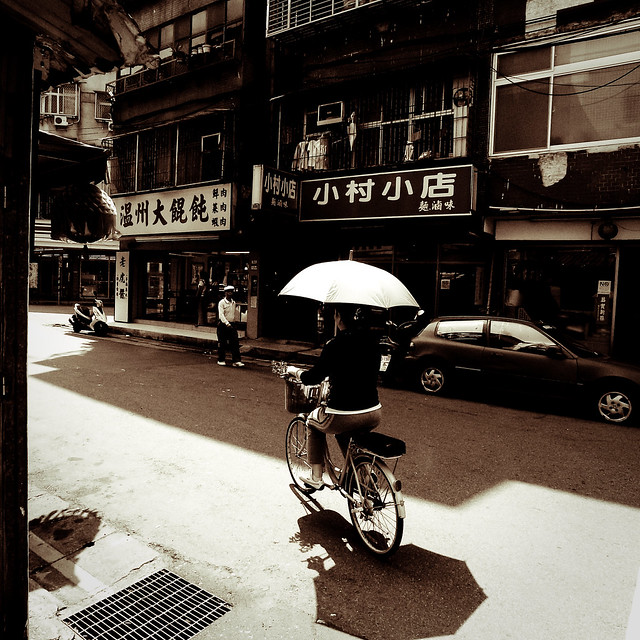backpack: (289, 343, 380, 446), (311, 334, 383, 398), (279, 366, 321, 465), (383, 305, 421, 382), (280, 367, 315, 418), (216, 288, 239, 361), (67, 297, 110, 336), (287, 372, 325, 411), (221, 291, 243, 338), (376, 329, 397, 374), (218, 294, 236, 332), (222, 299, 246, 323), (213, 296, 232, 322)
bench: (399, 326, 634, 437), (289, 390, 396, 468), (218, 333, 327, 373), (132, 327, 217, 356), (240, 343, 317, 369), (197, 323, 249, 357), (252, 353, 314, 379), (234, 348, 294, 374), (244, 341, 304, 360), (267, 339, 320, 360), (283, 343, 323, 365), (243, 347, 289, 364), (268, 359, 308, 378), (214, 299, 247, 321), (243, 358, 284, 374)
bicycle: (89, 393, 431, 578), (200, 351, 431, 548), (301, 351, 527, 519), (337, 318, 579, 449), (275, 377, 407, 559), (284, 315, 394, 512), (282, 370, 382, 479), (268, 334, 344, 476), (288, 407, 391, 505), (332, 437, 404, 553), (279, 391, 344, 504), (278, 368, 322, 484), (309, 403, 366, 492), (286, 349, 334, 453), (303, 396, 383, 457), (325, 424, 400, 483), (353, 431, 405, 507), (317, 415, 379, 468), (289, 393, 325, 468), (279, 386, 307, 471), (280, 370, 314, 439), (276, 365, 322, 415), (299, 407, 332, 475), (284, 412, 313, 487), (69, 296, 111, 336)
book: (80, 88, 94, 126)
bottle: (60, 83, 77, 122), (80, 88, 94, 126)
bowl: (37, 110, 74, 132), (42, 103, 68, 129), (48, 113, 75, 129)
bus: (276, 259, 418, 318)
car: (284, 279, 615, 430), (385, 314, 638, 424), (258, 333, 425, 479), (284, 312, 423, 429), (381, 316, 554, 391), (276, 259, 418, 318), (378, 311, 464, 393), (334, 317, 434, 386), (282, 350, 389, 411), (379, 308, 424, 388), (373, 304, 417, 357), (362, 315, 394, 386), (69, 296, 111, 336), (544, 317, 587, 356), (360, 305, 419, 330), (375, 326, 399, 384), (386, 306, 423, 341), (61, 301, 100, 331), (383, 305, 420, 326), (214, 299, 247, 321), (377, 329, 396, 364), (377, 340, 394, 375), (374, 348, 391, 383), (514, 340, 549, 354)
cat: (497, 138, 640, 208)
chair: (292, 309, 423, 523), (399, 326, 634, 437), (288, 379, 390, 471), (294, 133, 322, 169), (310, 130, 332, 169), (327, 126, 345, 169)
cup: (53, 83, 79, 124), (40, 92, 64, 121), (42, 103, 68, 129), (80, 89, 94, 127), (48, 113, 75, 129)
dining table: (399, 326, 634, 437)
frisbee: (222, 299, 246, 323)
handbag: (303, 313, 382, 447), (309, 360, 381, 421), (317, 335, 363, 417), (305, 393, 382, 440), (302, 317, 343, 396), (329, 332, 376, 397), (347, 325, 383, 393), (378, 312, 413, 380), (277, 370, 308, 438), (347, 429, 406, 458), (216, 288, 239, 361), (281, 367, 312, 413), (372, 321, 395, 382), (221, 292, 244, 344), (377, 326, 405, 364), (302, 375, 330, 407), (211, 302, 235, 339), (215, 286, 239, 322), (370, 320, 395, 354), (224, 308, 242, 355), (212, 309, 229, 355), (376, 334, 396, 372), (217, 310, 248, 334), (215, 317, 239, 348), (227, 303, 249, 336), (218, 294, 236, 332), (212, 325, 245, 344), (374, 348, 391, 383), (213, 297, 230, 331), (222, 299, 246, 323), (231, 289, 247, 322), (376, 330, 397, 355), (224, 319, 251, 338), (204, 302, 223, 327), (212, 307, 235, 325)
horse: (67, 296, 110, 335)
motorcycle: (280, 361, 412, 551), (275, 357, 327, 479), (68, 296, 111, 336), (280, 367, 315, 414), (75, 282, 107, 328)
person: (286, 327, 509, 544), (226, 286, 418, 506), (337, 318, 579, 449), (278, 268, 444, 445), (272, 338, 406, 534), (290, 304, 390, 486), (277, 258, 417, 345), (284, 301, 405, 396), (282, 367, 382, 453), (283, 336, 342, 477), (296, 302, 359, 432), (328, 307, 390, 423), (376, 306, 451, 391), (281, 290, 357, 373), (277, 321, 334, 424), (45, 181, 117, 243), (524, 266, 579, 343), (505, 263, 562, 334), (295, 302, 341, 387), (359, 311, 400, 390), (381, 307, 423, 384), (284, 307, 323, 373), (349, 307, 387, 374), (520, 293, 566, 346), (214, 286, 243, 368), (306, 302, 344, 357), (318, 305, 375, 341), (298, 333, 332, 393), (384, 299, 423, 351), (515, 278, 555, 328), (319, 307, 349, 373), (500, 320, 561, 352), (299, 128, 346, 169), (377, 324, 413, 376), (579, 297, 610, 357), (542, 282, 572, 342), (280, 367, 315, 418), (350, 105, 377, 170), (404, 96, 431, 161), (209, 282, 234, 352), (531, 278, 562, 334), (68, 294, 109, 336), (354, 305, 392, 345), (511, 294, 544, 340), (506, 283, 542, 325), (386, 313, 414, 364), (195, 264, 219, 323), (502, 259, 525, 320), (485, 323, 536, 350), (549, 303, 584, 342), (572, 315, 604, 357), (330, 112, 353, 169), (372, 320, 395, 377), (319, 119, 345, 169), (207, 267, 233, 316), (78, 270, 106, 314), (178, 275, 202, 326), (221, 292, 244, 344), (343, 109, 362, 169), (187, 263, 206, 321), (497, 330, 547, 352), (216, 286, 236, 338), (84, 286, 109, 327), (318, 305, 342, 347), (545, 314, 573, 350), (308, 302, 330, 347), (324, 306, 352, 341), (211, 283, 231, 329), (75, 281, 98, 321), (582, 292, 602, 337), (380, 335, 403, 374), (297, 132, 321, 169), (78, 294, 103, 329), (219, 288, 245, 321), (227, 296, 249, 335), (204, 288, 223, 333), (544, 283, 562, 329), (541, 305, 566, 338), (525, 301, 553, 330), (386, 306, 422, 328), (360, 122, 377, 168), (351, 306, 388, 327), (408, 134, 436, 161), (516, 294, 539, 326), (517, 304, 545, 330), (193, 279, 208, 327), (201, 282, 217, 326), (312, 316, 334, 348), (307, 132, 326, 169), (550, 310, 574, 339), (403, 127, 424, 160), (502, 273, 519, 313), (292, 136, 312, 169), (503, 287, 524, 318), (193, 266, 208, 308), (174, 287, 192, 322), (375, 337, 392, 374), (213, 285, 242, 306), (314, 131, 330, 169), (549, 281, 565, 319), (578, 300, 594, 338), (346, 109, 359, 152), (82, 278, 101, 307), (400, 131, 417, 163), (505, 333, 535, 351), (203, 280, 223, 307), (231, 289, 247, 322), (199, 262, 215, 295), (82, 267, 100, 296), (188, 261, 203, 295), (220, 280, 243, 302), (192, 260, 208, 291), (213, 296, 232, 322), (211, 281, 232, 304), (490, 332, 520, 348), (207, 255, 222, 287), (218, 280, 235, 308), (218, 263, 235, 291), (223, 260, 240, 288), (160, 287, 175, 318), (90, 278, 106, 307), (224, 271, 240, 300), (485, 327, 508, 347), (512, 340, 547, 353), (213, 260, 228, 290), (232, 280, 248, 308), (219, 271, 234, 299), (150, 198, 165, 225), (79, 273, 95, 298)
remote: (45, 114, 77, 128)
skateboard: (229, 357, 284, 375), (230, 323, 248, 366), (219, 359, 268, 372), (214, 356, 254, 369)
suitcase: (67, 297, 110, 336), (280, 367, 315, 414)
tennis racket: (399, 326, 634, 437), (281, 379, 414, 561), (284, 410, 313, 487), (222, 299, 246, 323)
truck: (377, 314, 630, 422), (276, 259, 418, 318), (67, 296, 110, 335)
tv: (276, 259, 418, 318)
umbrella: (268, 234, 441, 326), (284, 301, 405, 396), (282, 264, 409, 349), (274, 258, 422, 311), (40, 174, 120, 243), (330, 258, 419, 301), (278, 262, 351, 298), (386, 305, 421, 324)
wine glass: (288, 349, 418, 551), (284, 410, 313, 487)
